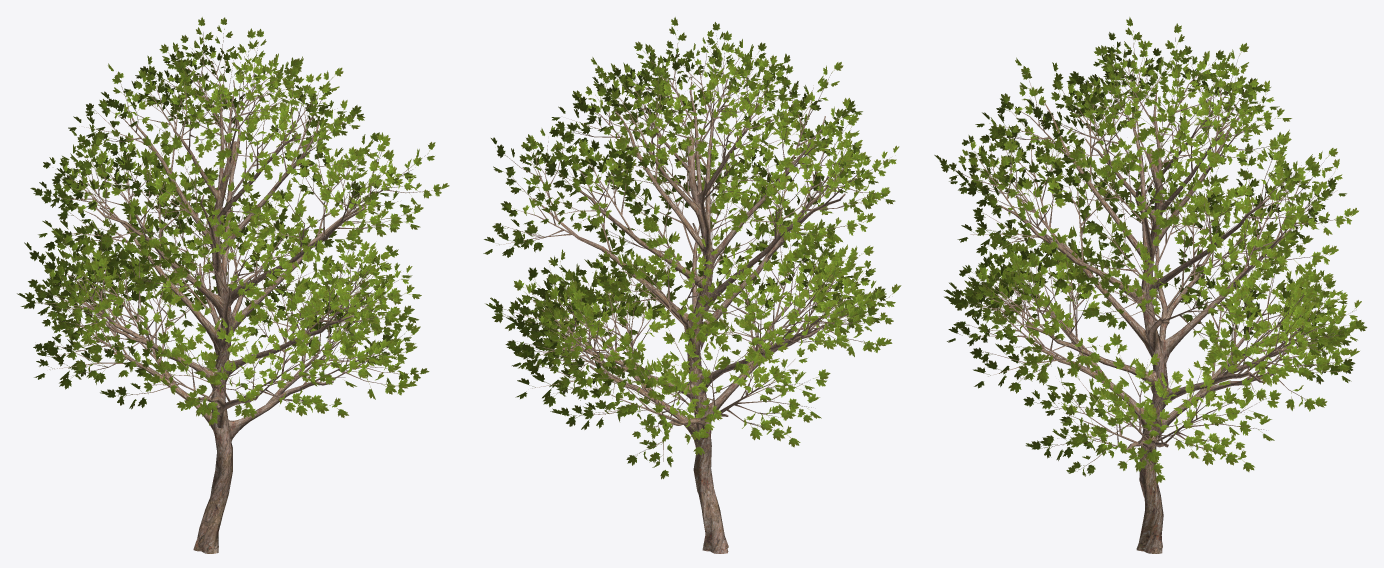
The model's file is maple_tree.glb.
3 renders of one model, left to right at view 1: azimuth 30°, elevation 25°; view 2: azimuth 150°, elevation 25°; view 3: azimuth 270°, elevation 25°, orthographic. The views are drawn at different scales.
Visible parts, largest first — view 1: Tree_1, Tree_0; view 2: Tree_1, Tree_0; view 3: Tree_1, Tree_0.
Part boxes in pixels (left/top/right/bottom): Tree_1: left=17, top=17, right=449, bottom=425; Tree_0: left=35, top=29, right=432, bottom=553; Tree_1: left=483, top=17, right=901, bottom=479; Tree_0: left=497, top=38, right=889, bottom=553; Tree_1: left=934, top=17, right=1367, bottom=483; Tree_0: left=941, top=31, right=1348, bottom=553.
Bounding box in the file's own units: 4.95 × 5.78 × 4.5.
Materials: 2 (2 with a texture image).
